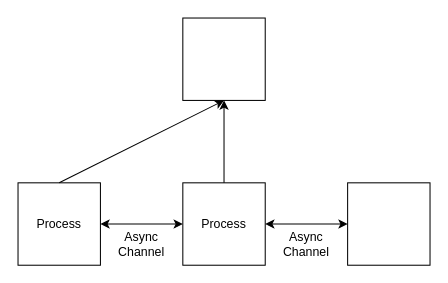
This 448x283 diagram has some shape labels left out. Each missing label, with the centre of its shape:
"Device" belongs at [388,223].
"System" belongs at [223,58].
